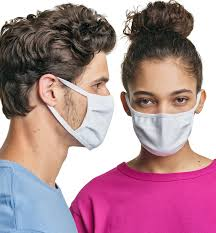FaceMask: (130, 109, 194, 156)
